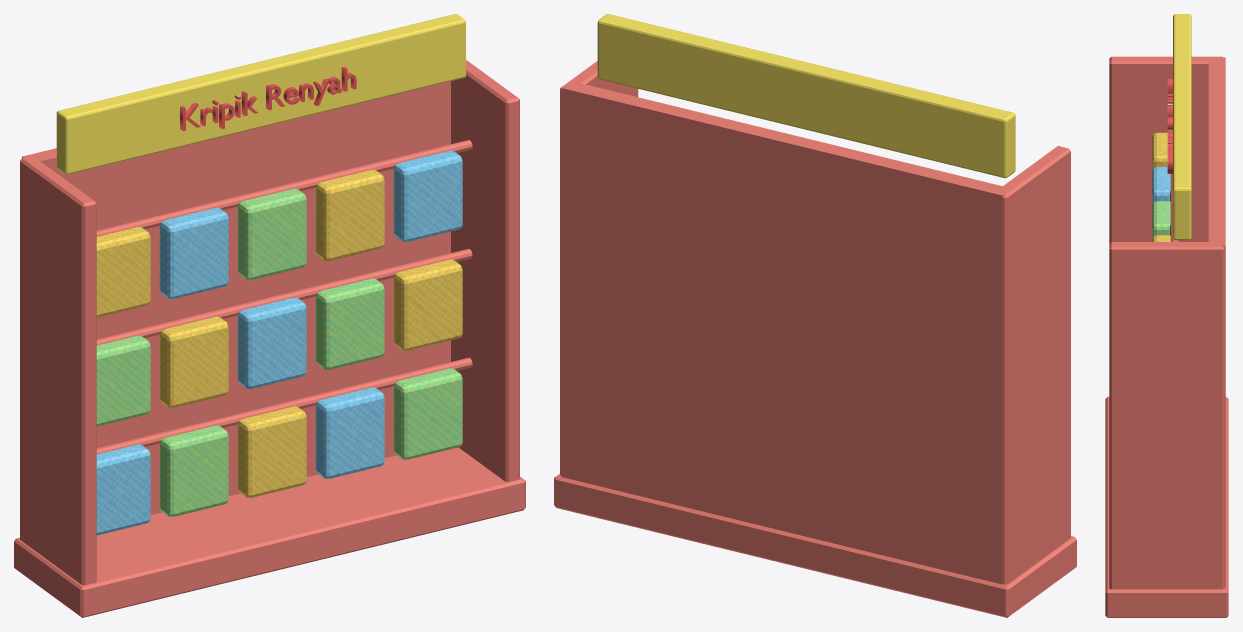
File: rak_snack.fbx
3 renders of one model, left to right at view 1: azimuth 30°, elevation 25°; view 2: azimuth 150°, elevation 25°; view 3: azimuth 270°, elevation 25°, orthographic. The views are drawn at different scales.
Visible parts, largest first — view 1: rak_snack; view 2: rak_snack; view 3: rak_snack.
Part boxes in pixels (x1,y1,x2,y2): rak_snack: (14, 14, 525, 617); rak_snack: (554, 14, 1076, 617); rak_snack: (1105, 14, 1228, 617).
Bounding box in the file's own units: 600 × 603 × 160.
1 material, 1 textured.
